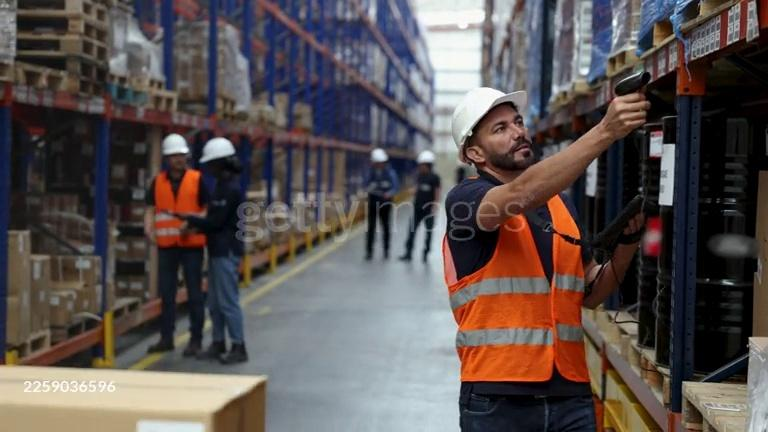helmet: (454, 85, 526, 156), (201, 138, 236, 161), (164, 134, 191, 155), (418, 151, 435, 164), (371, 149, 388, 161)
person: (440, 86, 651, 429), (169, 136, 250, 366), (143, 133, 208, 358), (398, 148, 443, 263), (360, 149, 400, 261)
